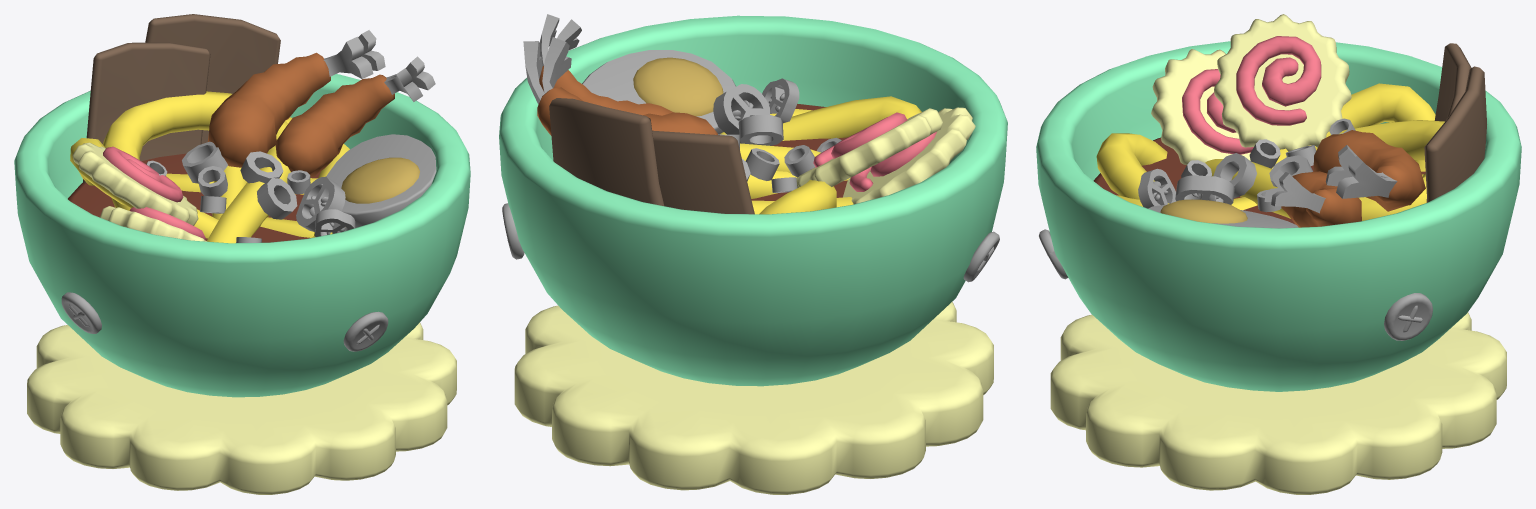
Rendered from Global_Udon.fbx.
The picture shows the model from 3 angles, left to right: view 1: azimuth 30°, elevation 25°; view 2: azimuth 150°, elevation 25°; view 3: azimuth 270°, elevation 25°; orthographic projection. The views are drawn at different scales.
Visible parts, largest first — view 1: S_Udon, M_Udon, D_Udon_9, D_Udon_14, D_Udon_8, D_Udon_12, D_Udon_10, D_Udon_2, D_Udon_11, D_Udon_4, D_Udon_15, D_Udon_1; view 2: S_Udon, M_Udon, D_Udon_9, D_Udon_14, D_Udon_8, D_Udon_15, D_Udon_10, D_Udon_1, D_Udon_11, D_Udon_6, D_Udon_13; view 3: S_Udon, M_Udon, D_Udon_9, D_Udon_13, D_Udon_10, D_Udon_14, D_Udon_8, D_Udon_15, D_Udon_6, D_Udon_4.
Part boxes in pixels (x1,y1,x2,y2): S_Udon: (14,14,470,494); M_Udon: (72,134,436,241); D_Udon_9: (323,30,385,78); D_Udon_14: (296,176,345,231); D_Udon_8: (257,178,297,219); D_Udon_12: (343,311,388,351); D_Udon_10: (384,56,435,101); D_Udon_2: (182,141,227,183); D_Udon_11: (61,292,101,333); D_Udon_4: (240,151,283,183); D_Udon_15: (315,209,355,236); D_Udon_1: (198,166,227,196); S_Udon: (499,15,1007,494); M_Udon: (582,50,975,204); D_Udon_9: (523,37,571,104); D_Udon_14: (713,84,769,143); D_Udon_8: (738,115,783,145); D_Udon_15: (762,78,799,123); D_Udon_10: (539,14,581,65); D_Udon_1: (745,148,779,180); D_Udon_11: (963,231,999,282); D_Udon_6: (784,145,814,176); D_Udon_13: (502,203,524,259); S_Udon: (1036,36,1521,494); M_Udon: (1148,14,1351,228); D_Udon_9: (1325,145,1397,198); D_Udon_13: (1384,293,1432,340); D_Udon_10: (1264,169,1325,213); D_Udon_14: (1175,175,1234,204); D_Udon_8: (1213,153,1256,198); D_Udon_15: (1138,168,1176,208); D_Udon_6: (1249,139,1280,168); D_Udon_4: (1269,155,1312,187).
Bounding box in the file's own units: 479 × 371 × 479.
